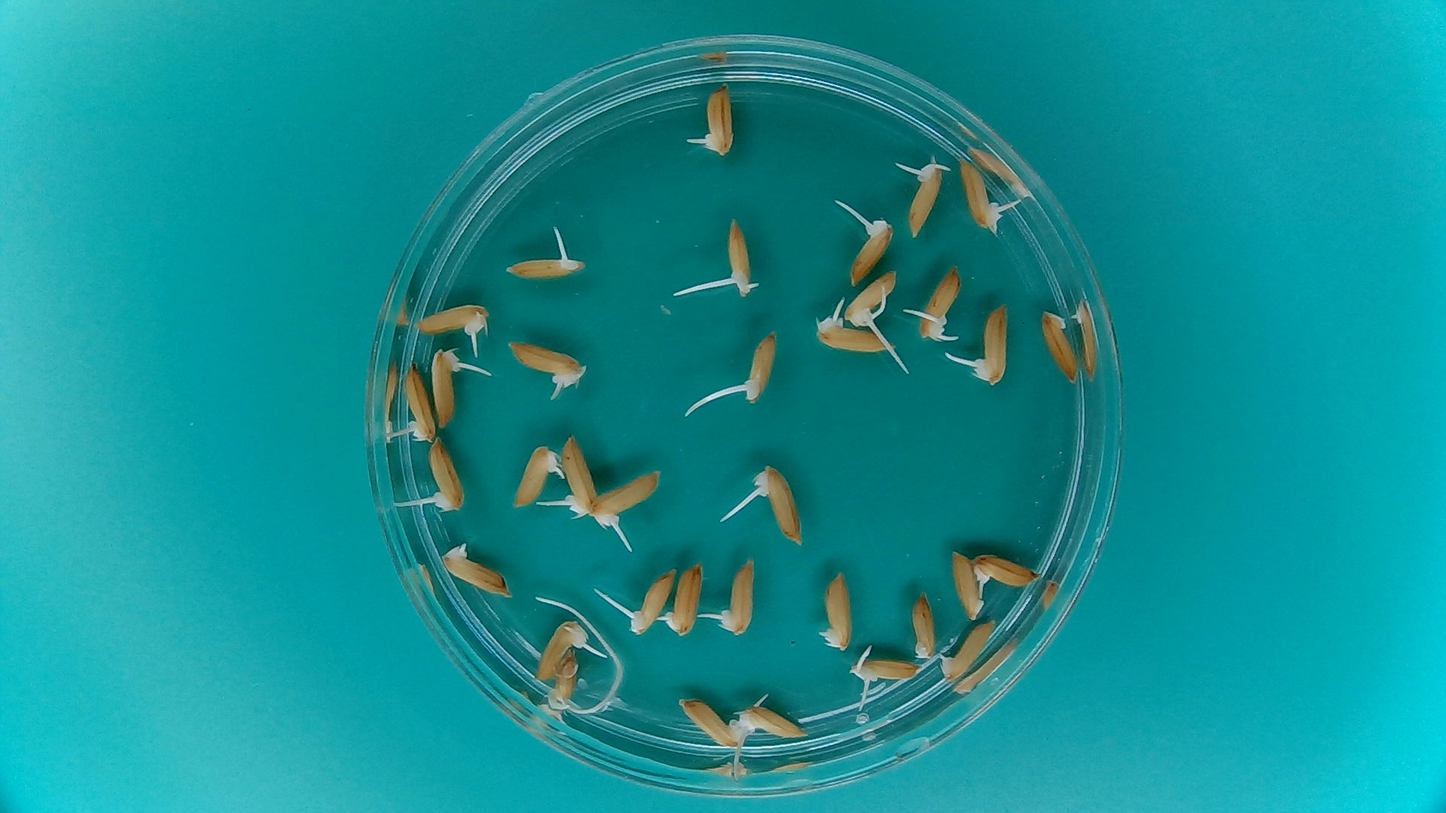no: (947, 547, 986, 624), (1039, 311, 1081, 382), (908, 586, 939, 659)
yes: (588, 467, 660, 524), (438, 544, 506, 600), (508, 338, 582, 388), (558, 428, 598, 518), (914, 265, 959, 340), (757, 466, 801, 542), (627, 563, 674, 634), (663, 562, 706, 639), (970, 303, 1010, 385), (842, 267, 899, 324), (719, 556, 760, 635), (942, 619, 996, 678), (678, 696, 740, 746), (847, 220, 894, 285), (532, 620, 582, 681), (816, 316, 892, 355), (510, 445, 555, 510), (956, 160, 999, 227), (411, 300, 486, 338), (969, 552, 1042, 591), (819, 574, 855, 653), (401, 365, 436, 446), (740, 704, 810, 744), (847, 655, 926, 690), (908, 160, 944, 236), (426, 440, 464, 512), (431, 349, 463, 433), (700, 84, 737, 156), (501, 250, 582, 281), (741, 335, 778, 402), (725, 217, 755, 298), (546, 653, 581, 717)
